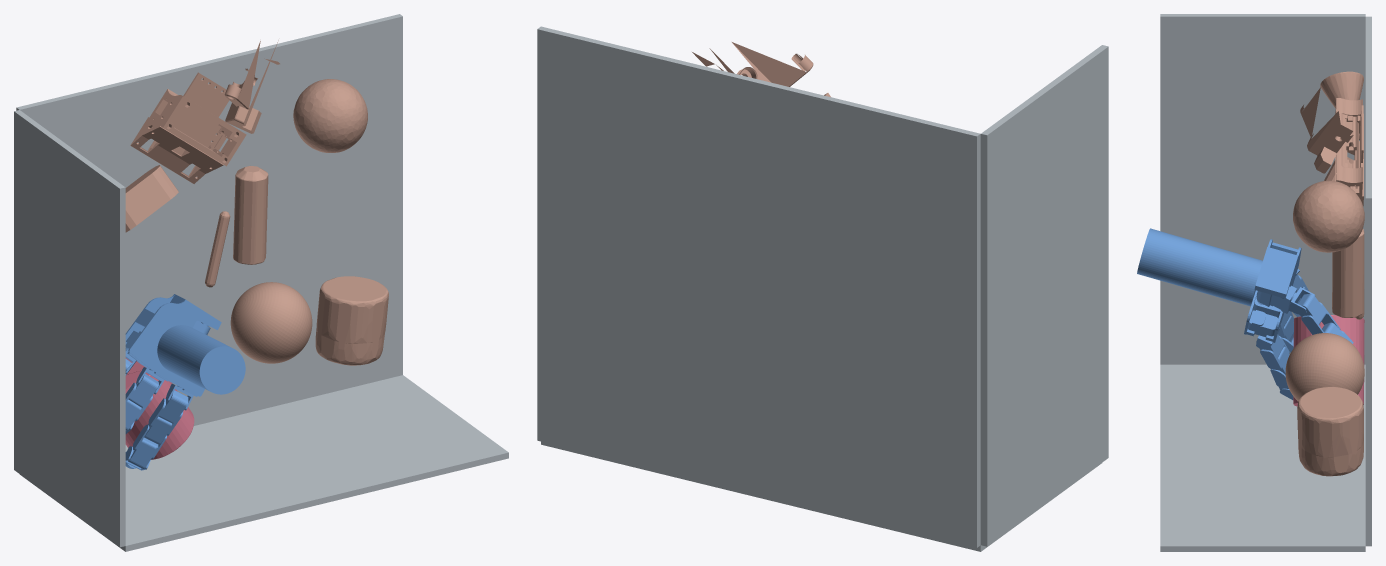
3 views of the same model, side by side, from view 1: azimuth 30°, elevation 25°; view 2: azimuth 150°, elevation 25°; view 3: azimuth 270°, elevation 25° (orthographic). The views are drawn at different scales.
Parts seen in each view (by area): view 1: environment, hand, obstacle_004, obstacle_008, obstacle_001, obstacle_000, obstacle_005, obstacle_006, world, obstacle_003, obstacle_007; view 2: environment, obstacle_003; view 3: environment, hand, obstacle_008, obstacle_000, obstacle_001, obstacle_005, obstacle_004, obstacle_003, world, obstacle_002.
Boxes of the visible parts, bbox=[...] form: environment: bbox=[14, 14, 508, 551]; hand: bbox=[125, 294, 245, 470]; obstacle_004: bbox=[130, 72, 246, 183]; obstacle_008: bbox=[315, 276, 388, 365]; obstacle_001: bbox=[230, 282, 312, 363]; obstacle_000: bbox=[293, 79, 367, 152]; obstacle_005: bbox=[233, 166, 268, 264]; obstacle_006: bbox=[125, 165, 178, 232]; world: bbox=[125, 358, 194, 459]; obstacle_003: bbox=[224, 40, 279, 133]; obstacle_007: bbox=[205, 211, 230, 287]; environment: bbox=[537, 26, 1108, 551]; obstacle_003: bbox=[692, 42, 813, 86]; environment: bbox=[1160, 14, 1371, 551]; hand: bbox=[1137, 228, 1353, 399]; obstacle_008: bbox=[1297, 386, 1363, 476]; obstacle_000: bbox=[1293, 180, 1364, 252]; obstacle_001: bbox=[1285, 333, 1364, 401]; obstacle_005: bbox=[1332, 229, 1364, 317]; obstacle_004: bbox=[1335, 98, 1363, 206]; obstacle_003: bbox=[1300, 87, 1353, 173]; world: bbox=[1293, 315, 1364, 406]; obstacle_002: bbox=[1320, 71, 1363, 139].
Bounding box in the file's own units: 0.5508 × 0.5396 × 0.2968.
